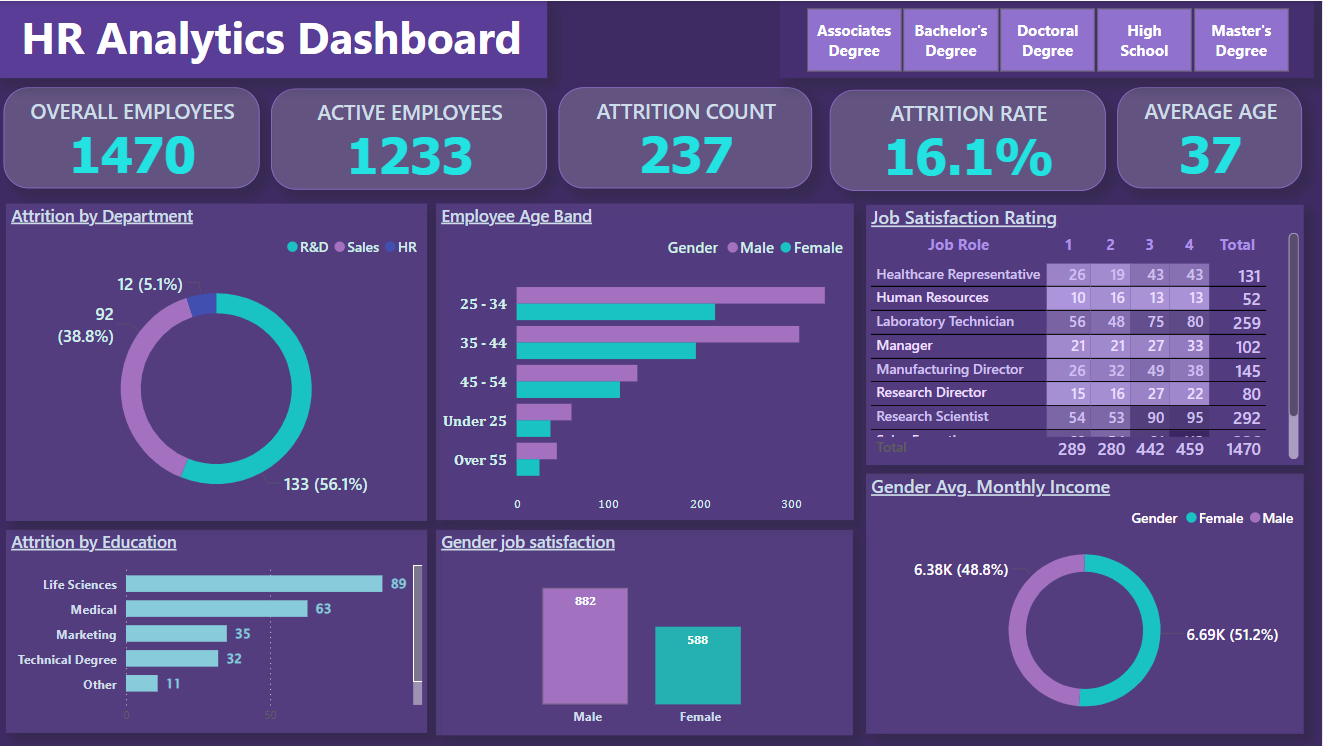

This screenshot's page, from the dashboard's own definition file:
{"tool":"powerbi","page":{"name":"Page 1","canvas":[1280,720],"ordinal":0},"visuals":[{"type":"card","title":"Overall Employees","fields":{"Values":["Sum(HR data.Employee Count)"]},"box":[7.5,83.8,247.5,97.5],"z":0},{"type":"card","title":"Active Employees","fields":{"Values":["HR data.Active Employees"]},"box":[265.4,84.5,266.6,97.7],"z":1000},{"type":"card","title":"Attrition Count","fields":{"Values":["Sum(HR data.Attrition Count)"]},"box":[824,84.5,244.9,97.7],"z":2000},{"type":"card","title":"Attrition Rate","fields":{"Values":["HR data.Attrition rate"]},"box":[544.1,83.2,266.6,97.7],"z":3000},{"type":"card","title":"Average Age","fields":{"Values":["Avg(HR data.Age)"]},"box":[1082.5,83.8,178.8,97.5],"z":4000},{"type":"donutChart","fields":{"Category":["HR data.Department"],"Y":["Sum(HR data.Attrition Count)"]},"box":[10,195,406.2,306.2],"z":5000},{"type":"clusteredBarChart","title":"Employees by Gender and Age band","fields":{"Category":["HR data.CF_age band"],"Y":["CountNonNull(HR data.Age)"],"Series":["HR data.Gender"]},"box":[424.7,195.4,403,305.2],"z":6000},{"type":"pivotTable","title":"Job Satisfaction Rating","fields":{"Rows":["HR data.Job Role"],"Columns":["HR data.Job Satisfaction"],"Values":["Sum(HR data.Employee Count)"]},"box":[839.7,196.6,422.3,250.9],"z":7000},{"type":"barChart","title":"Attrition by Education","fields":{"Category":["HR data.Education Field"],"Y":["Sum(HR data.Attrition Count)"]},"box":[10,510,406.2,196.2],"z":8000},{"type":"donutChart","title":"Average Monthly Income by Gender","fields":{"Category":["HR data.Gender"],"Y":["Avg(HR data.Monthly Income)"]},"box":[839.7,456,422.3,250.9],"z":9000},{"type":"columnChart","title":"Job Satisfaction by Gender","fields":{"Category":["HR data.Gender"],"Y":["CountNonNull(HR data.Job Satisfaction)"]},"box":[425,510,402.5,198.8],"z":10000},{"type":"textbox","box":[0,0,639.4,74.8],"z":11000},{"type":"slicer","fields":{"Values":["HR data.Education"]},"box":[763.7,0,507.9,74.8],"z":12000}]}

Visuals, with their boxes in screenshot pixels (x1, y1, x2, y2), scaled from the page's 1280x720 canvas onto the 1323x746 screenshot:
"Overall Employees" card: BBox(8, 87, 264, 188)
"Active Employees" card: BBox(274, 88, 550, 189)
"Attrition Count" card: BBox(852, 88, 1105, 189)
"Attrition Rate" card: BBox(562, 86, 838, 187)
"Average Age" card: BBox(1119, 87, 1304, 188)
donutChart - HR data.Department x Sum(HR data.Attrition Count): BBox(10, 202, 430, 519)
"Employees by Gender and Age band" clusteredBarChart: BBox(439, 202, 856, 519)
"Job Satisfaction Rating" pivotTable: BBox(868, 204, 1304, 464)
"Attrition by Education" barChart: BBox(10, 528, 430, 732)
"Average Monthly Income by Gender" donutChart: BBox(868, 472, 1304, 732)
"Job Satisfaction by Gender" columnChart: BBox(439, 528, 855, 734)
textbox: BBox(0, 0, 661, 78)
slicer - HR data.Education: BBox(789, 0, 1314, 78)
